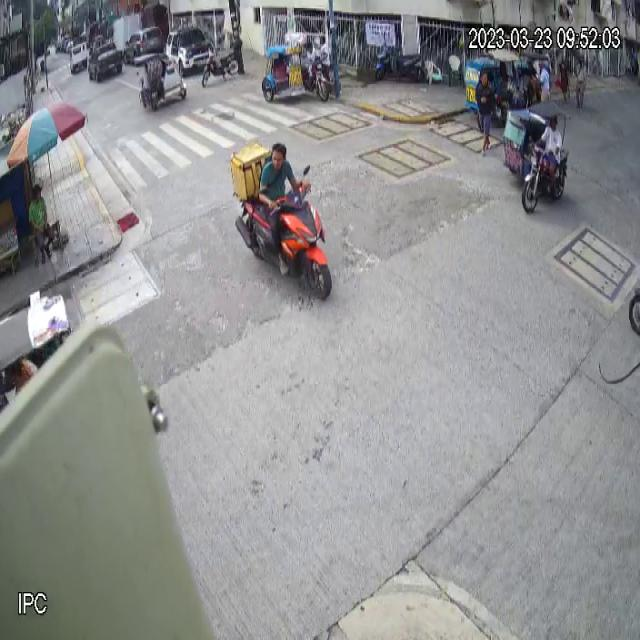Motorcycle: (234, 163, 335, 300)
Tricycle: (504, 100, 570, 214), (260, 31, 330, 104)
